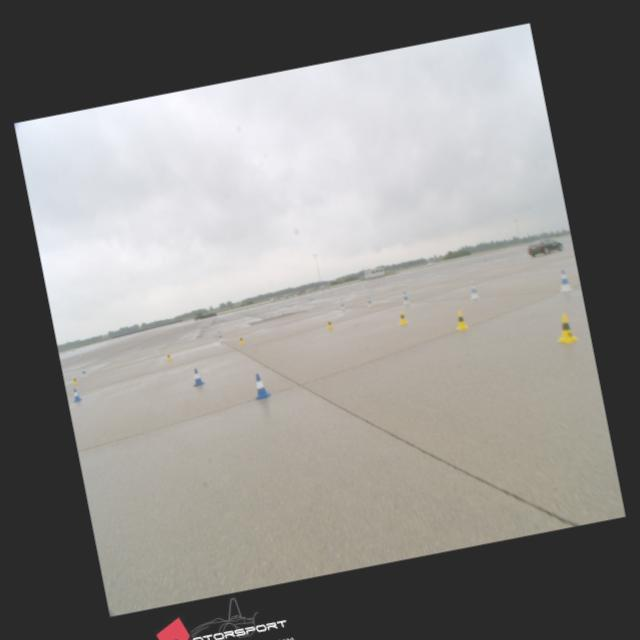blue_cone: (250, 372, 272, 400), (190, 368, 204, 386), (70, 388, 80, 402)
yellow_cone: (552, 312, 580, 346), (454, 310, 468, 330), (398, 310, 408, 325), (326, 318, 334, 329), (165, 352, 172, 362), (238, 335, 245, 344)
